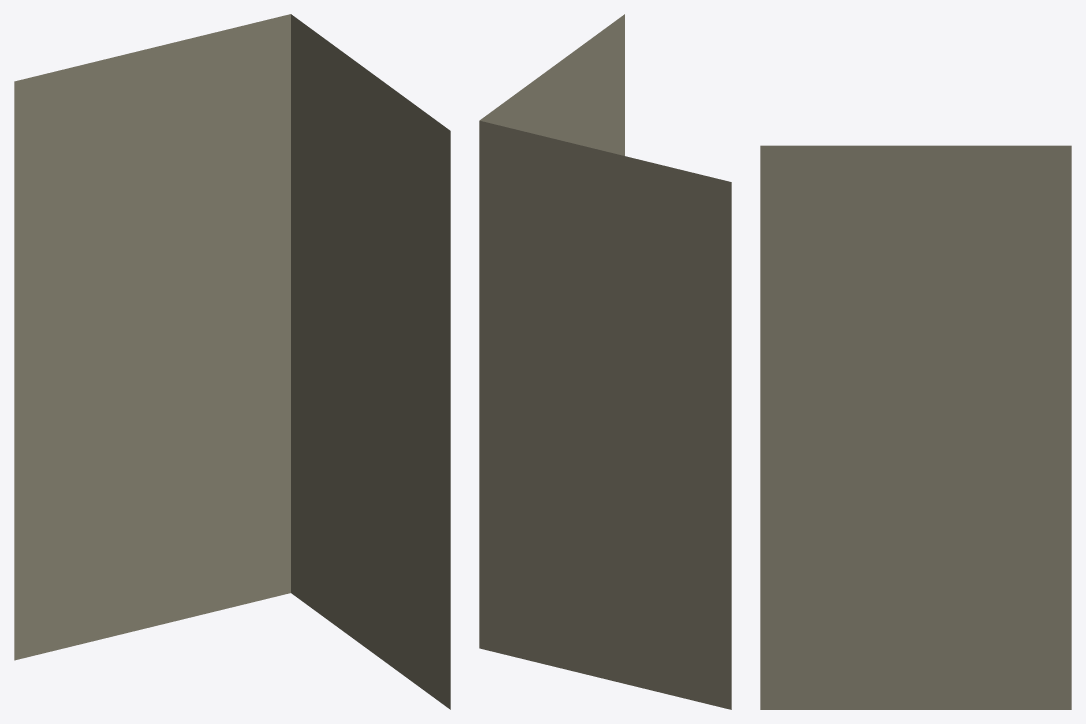
The model's file is S_b_cornerint.fbx.
3 renders of one model, left to right at view 1: azimuth 30°, elevation 25°; view 2: azimuth 150°, elevation 25°; view 3: azimuth 270°, elevation 25°, orthographic. The views are drawn at different scales.
Parts seen in each view (by area): view 1: b_cornerint; view 2: b_cornerint; view 3: b_cornerint.
Boxes of the visible parts, left/top/right/bottom form: b_cornerint: left=14, top=14, right=450, bottom=709; b_cornerint: left=479, top=14, right=731, bottom=709; b_cornerint: left=760, top=145, right=1071, bottom=709.
Size of the model in its own units: 200 by 400 by 200.
